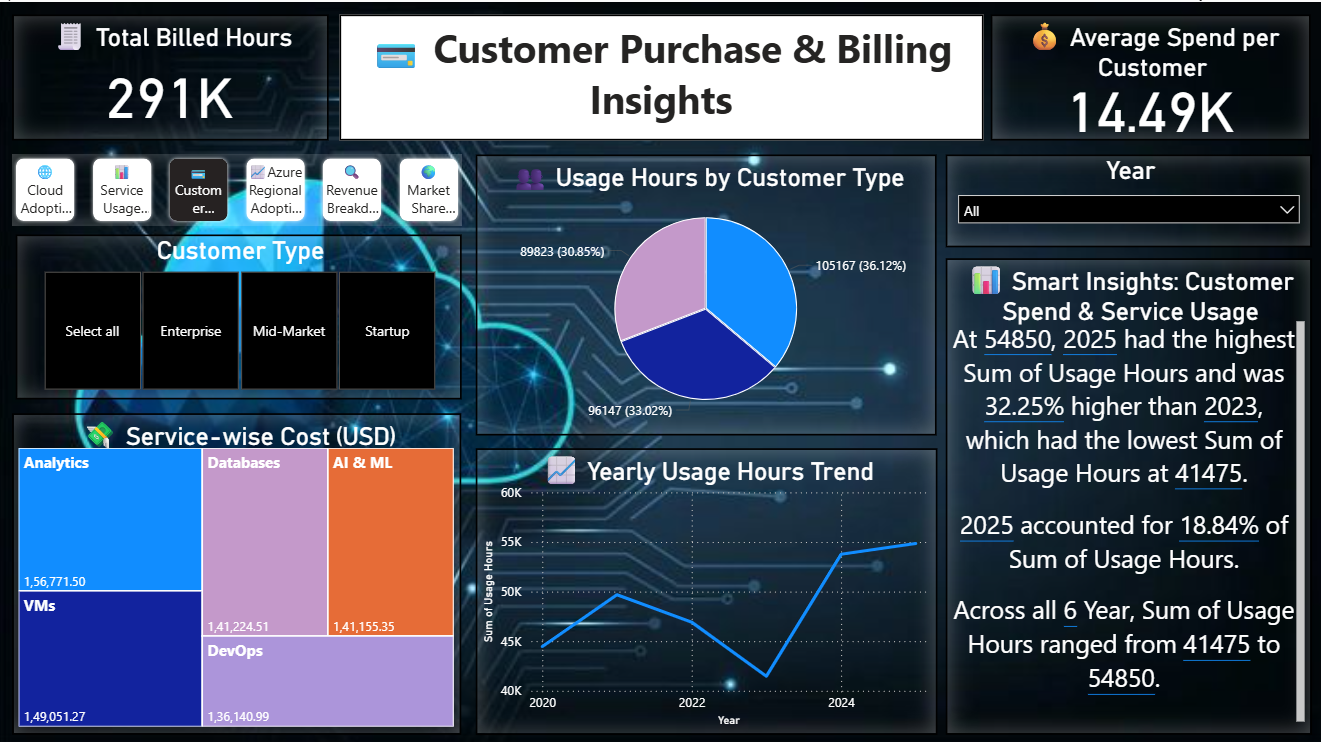

The dashboard page shown, as its layout file describes it:
{"tool":"powerbi","page":{"name":"💳 Customer Purchase Analysis & Billing Insights","canvas":[1280,720],"ordinal":2},"visuals":[{"type":"textbox","box":[330,12.5,621.2,121.2],"z":0},{"type":"card","title":"🧾 Total Billed Hours","fields":{"Values":["Sum(azure_services_usage_extended.Usage Hours)"]},"box":[14.5,12.1,305.2,121.9],"z":1000},{"type":"card","title":"💰 Average Spend per Customer","fields":{"Values":["azure_customer_segments_extended.AvgSpendPerCustomer"]},"box":[959.1,12.1,308.8,121.9],"z":2000},{"type":"pieChart","title":"👥 Usage Hours by Customer Type","fields":{"Y":["Sum(azure_services_usage_extended.Usage Hours)"],"Category":["azure_services_usage_extended.Customer Type"]},"box":[462.1,147.2,445.2,271.4],"z":3000},{"type":"treemap","title":"💸 Service-wise Cost (USD)","fields":{"Values":["Sum(azure_services_usage_extended.Cost (USD))"],"Group":["azure_services_usage_extended.Service Type"]},"box":[15,397.5,433.8,310],"z":4000},{"type":"lineChart","title":"📈 Yearly Usage Hours Trend","fields":{"Category":["azure_services_usage_extended.Year"],"Y":["Sum(azure_services_usage_extended.Usage Hours)"]},"box":[461.9,430.4,445.3,276.5],"z":5000},{"type":"slicer","title":"Year","fields":{"Values":["azure_services_usage_extended.Year"]},"box":[915.7,147.2,353.5,89.3],"z":6000},{"type":"slicer","title":"Customer Type","fields":{"Values":["azure_services_usage_extended.Customer Type"]},"box":[18.1,224.4,430.7,159.3],"z":7000},{"type":"textbox","title":"📊 Smart Insights:                             Customer Spend & Service Usage","box":[915.7,247.3,353.5,459.7],"z":8000},{"type":"pageNavigator","box":[14.5,147.2,434.3,68.8],"z":9000}]}

Visuals, with their boxes in screenshot pixels (x1, y1, x2, y2), scaled from the page's 1280x720 canvas onto the 1321x742 screenshot:
textbox: {"left": 341, "top": 13, "right": 982, "bottom": 138}
"🧾 Total Billed Hours" card: {"left": 15, "top": 12, "right": 330, "bottom": 138}
"💰 Average Spend per Customer" card: {"left": 990, "top": 12, "right": 1309, "bottom": 138}
"👥 Usage Hours by Customer Type" pieChart: {"left": 477, "top": 152, "right": 936, "bottom": 431}
"💸 Service-wise Cost (USD)" treemap: {"left": 15, "top": 410, "right": 463, "bottom": 729}
"📈 Yearly Usage Hours Trend" lineChart: {"left": 477, "top": 444, "right": 936, "bottom": 728}
"Year" slicer: {"left": 945, "top": 152, "right": 1310, "bottom": 244}
"Customer Type" slicer: {"left": 19, "top": 231, "right": 463, "bottom": 395}
"📊 Smart Insights:                             Customer Spend & Service Usage" textbox: {"left": 945, "top": 255, "right": 1310, "bottom": 729}
pageNavigator: {"left": 15, "top": 152, "right": 463, "bottom": 223}
